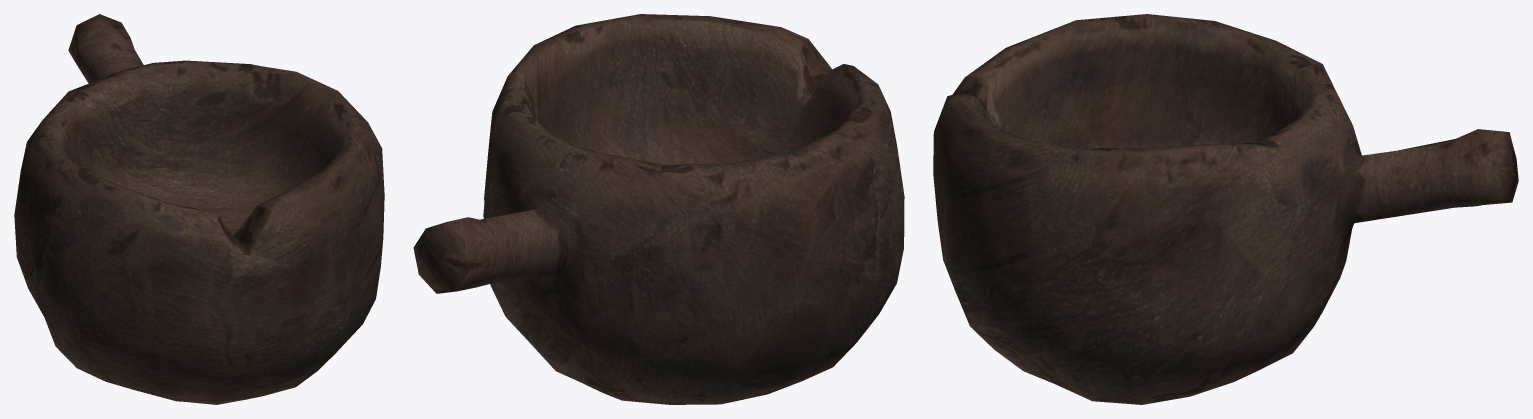
Rendered from SM_WoodBowls_PIllar.fbx.
3 renders of one model, left to right at view 1: azimuth 30°, elevation 25°; view 2: azimuth 150°, elevation 25°; view 3: azimuth 270°, elevation 25°, orthographic. The views are drawn at different scales.
Parts seen in each view (by area): view 1: SM_WoodBowls_PIllar_LOD0; view 2: SM_WoodBowls_PIllar_LOD0; view 3: SM_WoodBowls_PIllar_LOD0.
Part boxes in pixels (box(x1,y1,x2,y2)): SM_WoodBowls_PIllar_LOD0: box(14, 14, 384, 404); SM_WoodBowls_PIllar_LOD0: box(413, 14, 904, 404); SM_WoodBowls_PIllar_LOD0: box(933, 14, 1518, 404).
Bounding box in the file's own units: 22.81 × 31.94 × 17.51.
